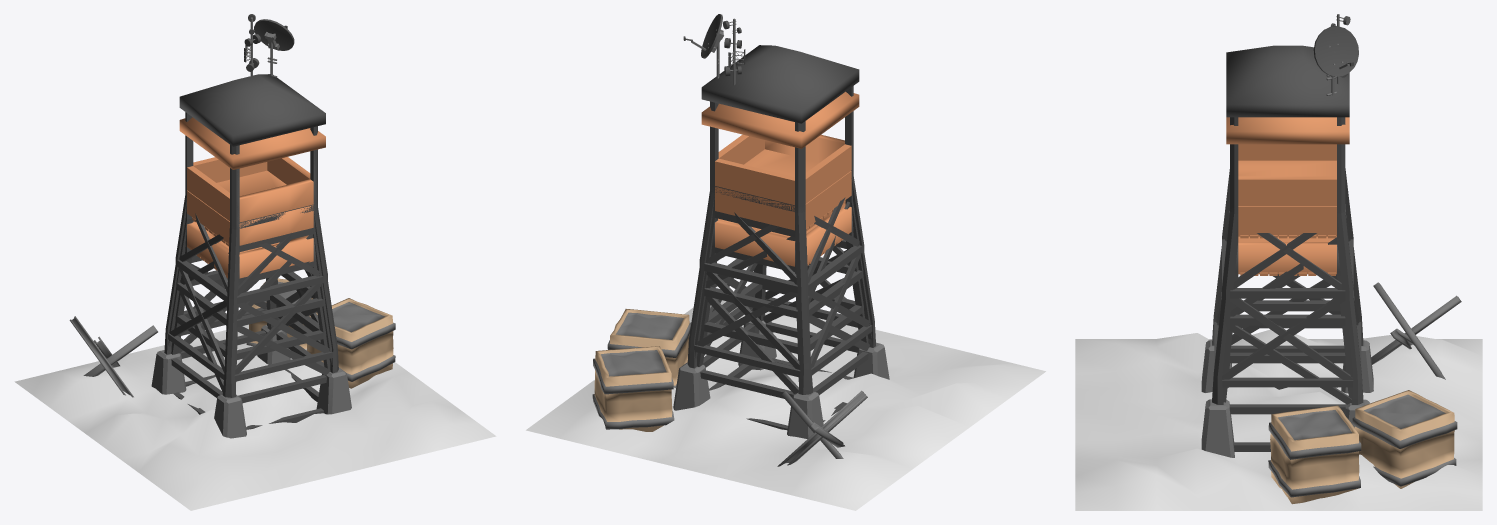
The model's file is watchtower.fbx.
The picture shows the model from 3 angles, left to right: view 1: azimuth 30°, elevation 25°; view 2: azimuth 150°, elevation 25°; view 3: azimuth 270°, elevation 25°; orthographic projection. The views are drawn at different scales.
Visible parts, largest first — view 1: snow, watchtower_t3, watchtower_t2, watchtower_t1, watchtower_t2.001, antenna_1; view 2: watchtower_t3, snow, watchtower_t2, watchtower_t1, watchtower_t2.001, antenna_1, antenna_2; view 3: watchtower_t3, snow, watchtower_t2, watchtower_t1, watchtower_t2.001, antenna_1.
Boxes of the visible parts, left/top/right/bottom form: snow: left=14, top=324, right=496, bottom=510; watchtower_t3: left=69, top=74, right=395, bottom=438; watchtower_t2: left=168, top=117, right=332, bottom=403; watchtower_t1: left=171, top=241, right=330, bottom=429; watchtower_t2.001: left=185, top=221, right=316, bottom=278; antenna_1: left=254, top=19, right=294, bottom=77; watchtower_t3: left=592, top=45, right=889, bottom=466; snow: left=526, top=300, right=1045, bottom=510; watchtower_t2: left=694, top=91, right=871, bottom=398; watchtower_t1: left=697, top=224, right=868, bottom=429; watchtower_t2.001: left=712, top=203, right=853, bottom=266; antenna_1: left=683, top=14, right=723, bottom=78; antenna_2: left=723, top=18, right=745, bottom=85; watchtower_t3: left=1201, top=45, right=1461, bottom=504; snow: left=1075, top=329, right=1482, bottom=510; watchtower_t2: left=1216, top=117, right=1359, bottom=414; watchtower_t1: left=1223, top=236, right=1352, bottom=451; watchtower_t2.001: left=1235, top=242, right=1340, bottom=271; antenna_1: left=1313, top=26, right=1358, bottom=95.
Size of the model in its own units: 234 by 271 by 234.
Materials: 5 (5 with a texture image).
